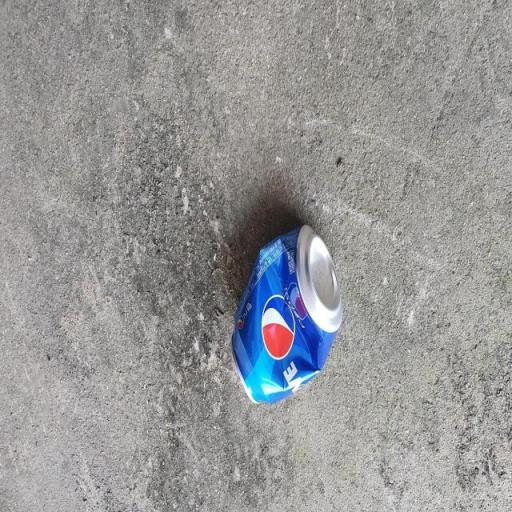metal: (221, 214, 346, 432)
